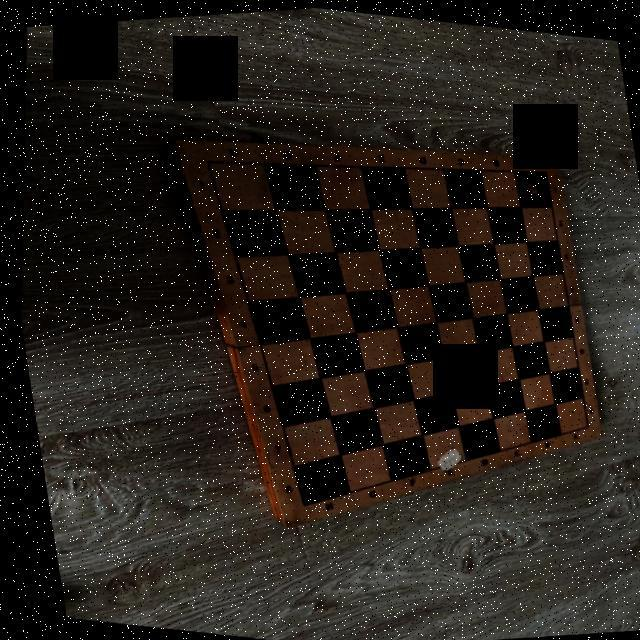chess-table-corners: (289, 494, 305, 509), (196, 153, 212, 165), (574, 418, 590, 428), (538, 164, 550, 172)
